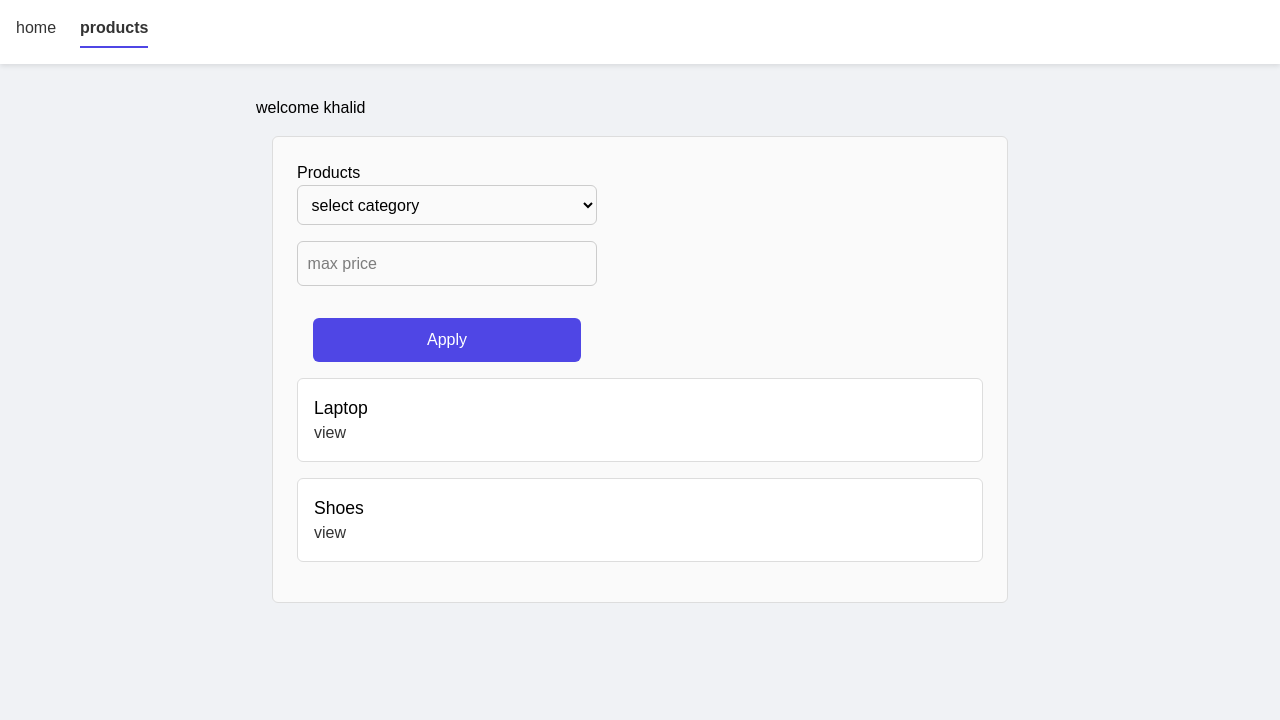
test level-11.jsx › test ProductDetails
This screenshot has width=1280, height=720.
Click the link "view" below "Laptop" at (330,432), box [314,424,346,441]
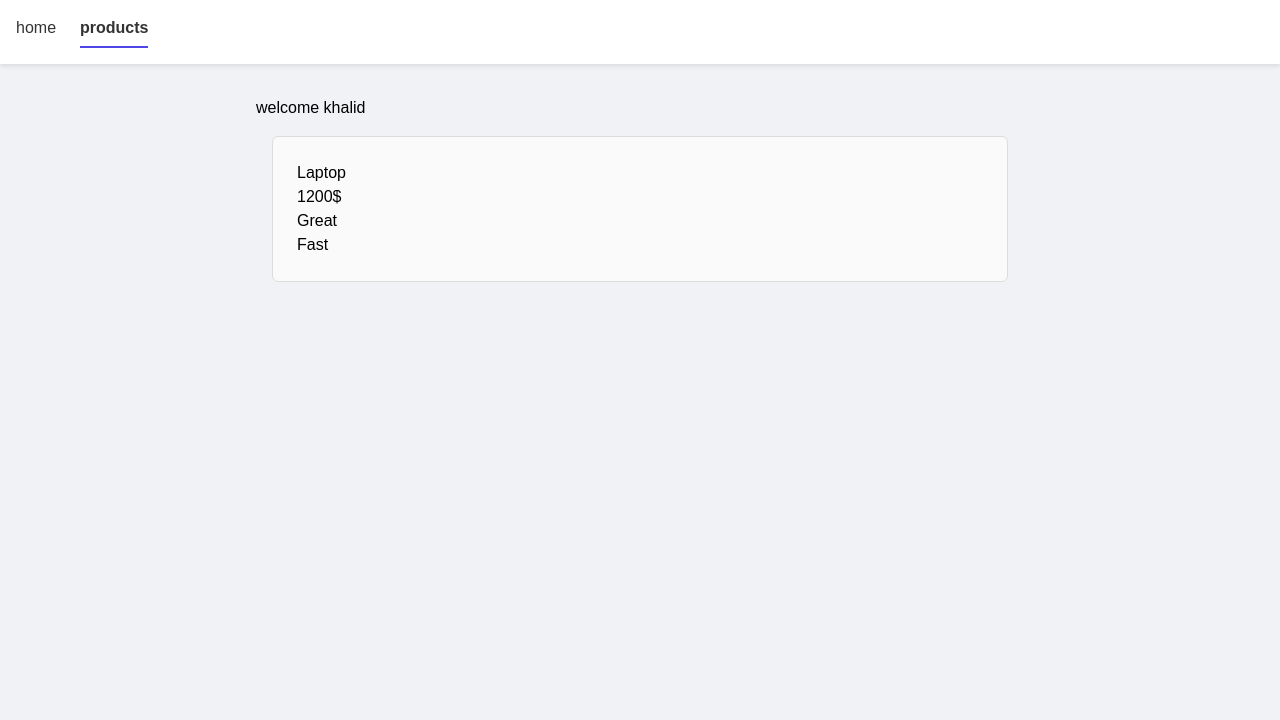
Expected: the heading "Laptop" is shown, [297,164,346,181]
Expected: the text "1200$" is shown, [297,188,342,205]
Expected: the list item "Great" is shown, [297,212,337,229]
